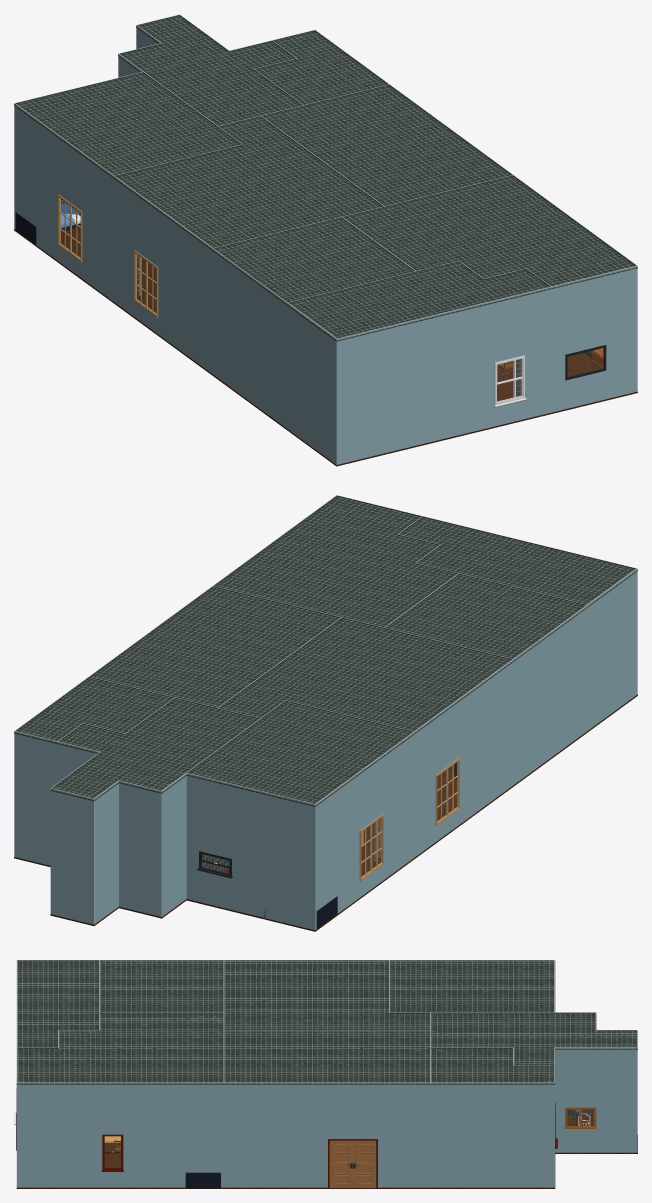
Rendered from ProcTHOR-Train-145.glb.
3 renders of one model, top to bottom at view 1: azimuth 30°, elevation 25°; view 2: azimuth 150°, elevation 25°; view 3: azimuth 270°, elevation 25°, orthographic. The views are drawn at different scales.
Visible parts, largest first — view 1: WallInside#wall|exterior|3.22|24.18|11.28|24.18, Ceiling#room|2|c, Ceiling#room|8|c, Ceiling#room|3|c, Ceiling#room|7|c, WallInside#wall|exterior|11.28|9.67|11.28|16.12, WallInside#wall|exterior|11.28|3.22|11.28|9.67, Ceiling#room|4|c, WallInside#wall|exterior|0.00|24.18|3.22|24.18, Ceiling#room|6|c, WallInside#wall|exterior|11.28|16.12|11.28|20.96, Ceiling#room|9|c (+7 smaller); view 2: Ceiling#room|2|c, Ceiling#room|8|c, WallInside#wall|exterior|6.45|3.22|11.28|3.22, Ceiling#room|3|c, Ceiling#room|7|c, WallInside#wall|exterior|11.28|9.67|11.28|16.12, WallInside#wall|exterior|11.28|3.22|11.28|9.67, Ceiling#room|4|c, WallInside#wall|exterior|11.28|16.12|11.28|20.96, Ceiling#room|9|c, Ceiling#room|6|c, WallInside#wall|exterior|11.28|20.96|11.28|24.18 (+10 smaller); view 3: WallInside#wall|exterior|0.00|16.12|0.00|24.18, WallInside#wall|exterior|0.00|8.06|0.00|16.12, WallInside#wall|exterior|0.00|3.22|0.00|8.06, Ceiling#room|8|c, Ceiling#room|2|c, Ceiling#room|3|c, Ceiling#room|7|c, WallInside#wall|exterior|3.22|0.00|3.22|3.22, Ceiling#room|4|c, Ceiling#room|6|c, Ceiling#room|9|c, Ceiling#room|5|c (+8 smaller).
Boxes of the visible parts, box(x1,y1,x2,y2) form: WallInside#wall|exterior|3.22|24.18|11.28|24.18: box(336, 286, 551, 464); Ceiling#room|2|c: box(113, 117, 382, 250); Ceiling#room|8|c: box(343, 176, 637, 288); Ceiling#room|3|c: box(262, 85, 511, 206); Ceiling#room|7|c: box(14, 73, 240, 177); WallInside#wall|exterior|11.28|9.67|11.28|16.12: box(113, 176, 212, 373); WallInside#wall|exterior|11.28|3.22|11.28|9.67: box(14, 103, 113, 301); Ceiling#room|4|c: box(118, 16, 303, 125); WallInside#wall|exterior|0.00|24.18|3.22|24.18: box(551, 265, 637, 412); Ceiling#room|6|c: box(286, 262, 552, 341); WallInside#wall|exterior|11.28|16.12|11.28|20.96: box(212, 248, 286, 428); Ceiling#room|9|c: box(212, 218, 413, 304); Ceiling#room|2|c: box(219, 618, 513, 734); Ceiling#room|8|c: box(215, 496, 456, 627); WallInside#wall|exterior|6.45|3.22|11.28|3.22: box(186, 773, 315, 930); Ceiling#room|3|c: box(91, 587, 339, 707); Ceiling#room|7|c: box(186, 702, 414, 806); WallInside#wall|exterior|11.28|9.67|11.28|16.12: box(414, 659, 513, 857); WallInside#wall|exterior|11.28|3.22|11.28|9.67: box(315, 732, 414, 929); Ceiling#room|4|c: box(50, 699, 259, 801); WallInside#wall|exterior|11.28|16.12|11.28|20.96: box(513, 605, 587, 784); Ceiling#room|9|c: box(387, 574, 587, 661); Ceiling#room|6|c: box(399, 517, 637, 606); WallInside#wall|exterior|11.28|20.96|11.28|24.18: box(587, 568, 637, 730); WallInside#wall|exterior|0.00|16.12|0.00|24.18: box(17, 1082, 223, 1187); WallInside#wall|exterior|0.00|8.06|0.00|16.12: box(223, 1082, 430, 1187); WallInside#wall|exterior|0.00|3.22|0.00|8.06: box(430, 1082, 554, 1187); Ceiling#room|8|c: box(16, 1013, 223, 1084); Ceiling#room|2|c: box(223, 961, 431, 1030); Ceiling#room|3|c: box(223, 1031, 431, 1084); Ceiling#room|7|c: box(388, 961, 555, 1012); WallInside#wall|exterior|3.22|0.00|3.22|3.22: box(555, 1047, 637, 1152); Ceiling#room|4|c: box(431, 1013, 637, 1065); Ceiling#room|6|c: box(17, 961, 100, 1048); Ceiling#room|9|c: box(100, 961, 223, 1012); Ceiling#room|5|c: box(431, 1048, 555, 1084).
Size of what is drawn, in the model's own units: 11.45 by 4.57 by 24.32.
462 materials, 216 textured.
